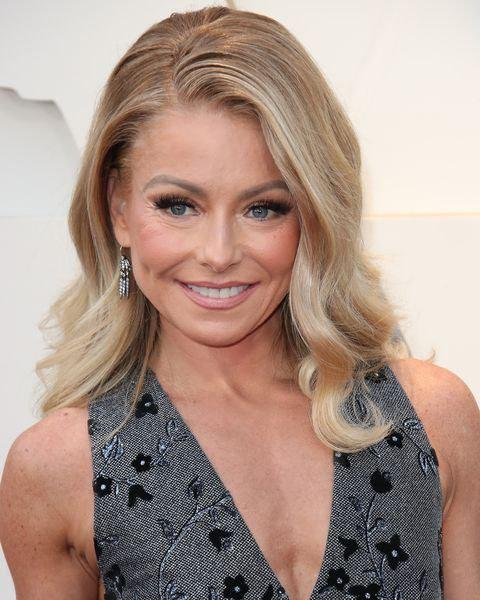Sober: (128, 108, 293, 337)
